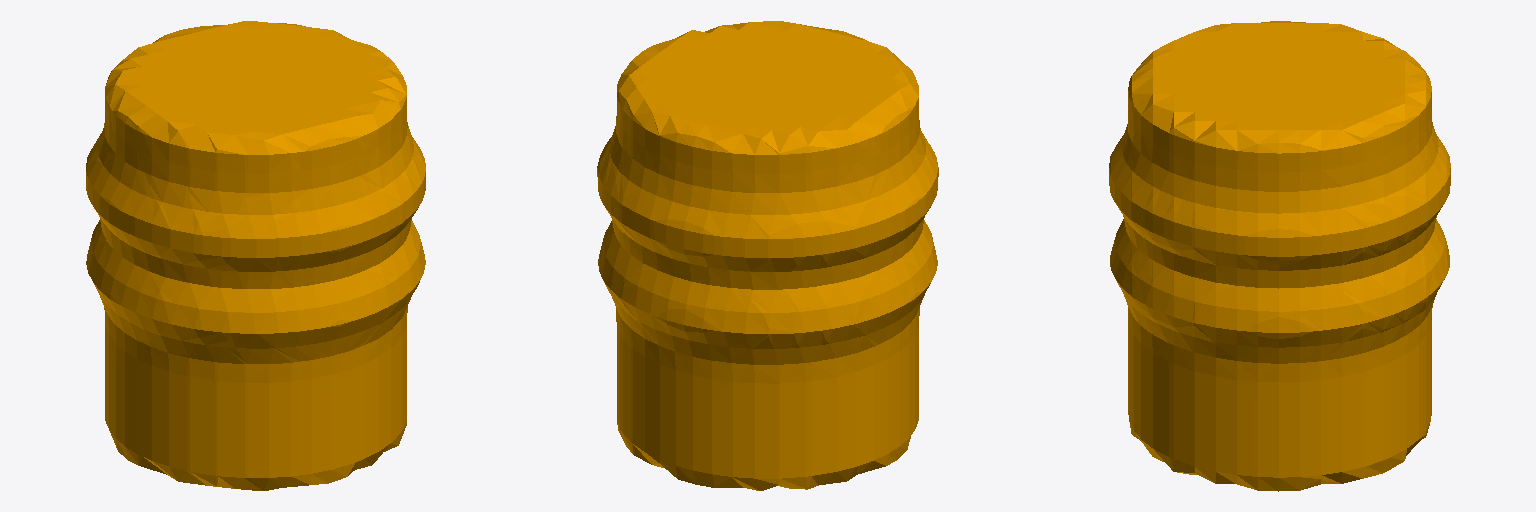
URDF robot description (cylinder_../../meshes/cylinders/cylinder_25.stl):
<?xml version="1.0" encoding="utf-8"?>  <robot name="cylinder_../../meshes/cylinders/cylinder_25.stl">   <link name="cylinder_../../meshes/cylinders/cylinder_25.stl">     <visual>       <geometry>         <mesh filename="../meshes/cylinders/cylinder_25.stl" scale="1 1 1"/>       </geometry>     </visual>     <collision>       <geometry>         <mesh filename="../meshes/cylinders/cylinder_25.stl" scale="1 1 1"/>       </geometry>     </collision>     <inertial>        <origin         xyz="0 0 0"         rpy="0 0 0" />       <mass value="0.4038725166884249"/>       <origin rpy="0 0 0" xyz="0 0 0"/>       <inertia ixx="0.0004157022471080856" ixy="-6.893955602388995e-08" ixz="3.645076711296599e-08" iyy="0.00041569979254020724" iyz="1.7510536893549603e-08" izz="0.00028159111342909097"/>     </inertial>   </link>  </robot>

--- Facts derived from the render (not from the file) ---
3 views of the same robot in one strip: view 1: azimuth 30°, elevation 25°; view 2: azimuth 150°, elevation 25°; view 3: azimuth 270°, elevation 25° (orthographic).
Robot: cylinder_../../meshes/cylinders/cylinder_25.stl — 1 links, 0 joints (none); root link cylinder_../../meshes/cylinders/cylinder_25.stl; default pose: all joints at 0.
Visible links, largest first — view 1: cylinder_../../meshes/cylinders/cylinder_25.stl; view 2: cylinder_../../meshes/cylinders/cylinder_25.stl; view 3: cylinder_../../meshes/cylinders/cylinder_25.stl.
Link boxes in pixels (x1=…): cylinder_../../meshes/cylinders/cylinder_25.stl: x1=86, y1=21, x2=425, y2=490; cylinder_../../meshes/cylinders/cylinder_25.stl: x1=597, y1=21, x2=938, y2=490; cylinder_../../meshes/cylinders/cylinder_25.stl: x1=1109, y1=21, x2=1450, y2=491.
Size in the robot's own frame: 0.0812 by 0.0812 by 0.093 metres.
Meshes: 1 distinct files referenced, 1 mesh visuals loaded (1 binary STL).